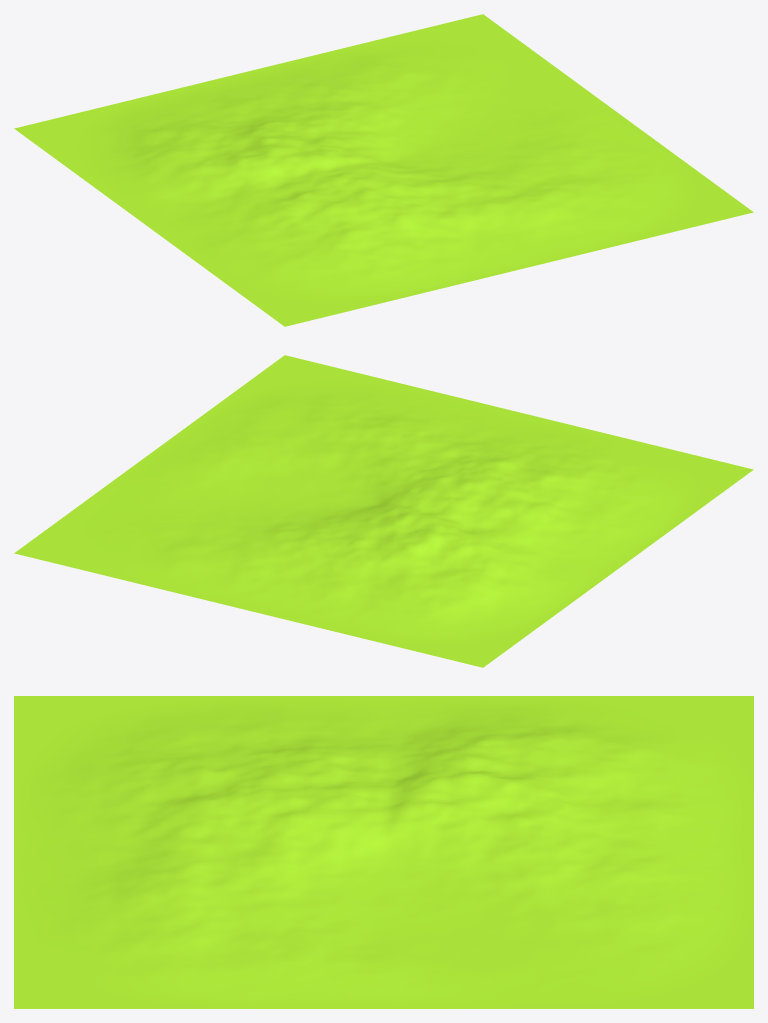
The model's file is landscape.fbx.
3 renders of one model, top to bottom at view 1: azimuth 30°, elevation 25°; view 2: azimuth 150°, elevation 25°; view 3: azimuth 270°, elevation 25°, orthographic. The views are drawn at different scales.
Parts seen in each view (by area): view 1: Cylinder; view 2: Cylinder; view 3: Cylinder.
Boxes of the visible parts, x1=… form: Cylinder: x1=14, y1=14, x2=753, y2=326; Cylinder: x1=14, y1=355, x2=753, y2=667; Cylinder: x1=14, y1=696, x2=753, y2=1008.
Size of the model in its own units: 1600 by 59.6 by 1600.
